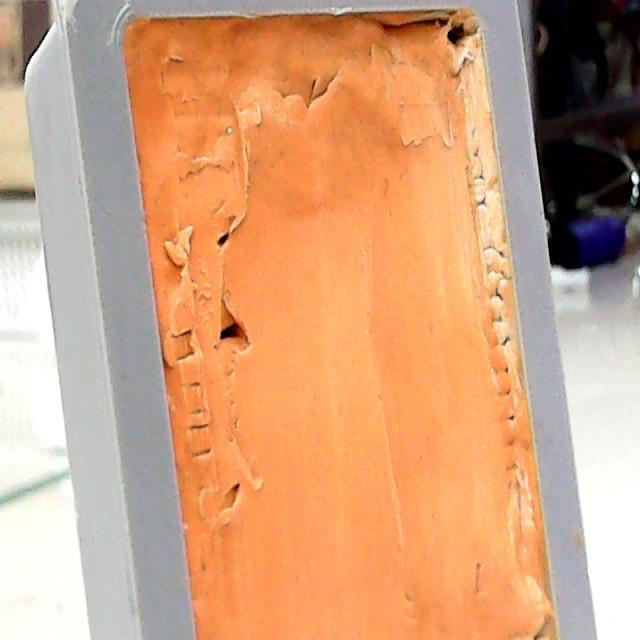block: (6, 0, 632, 640)
